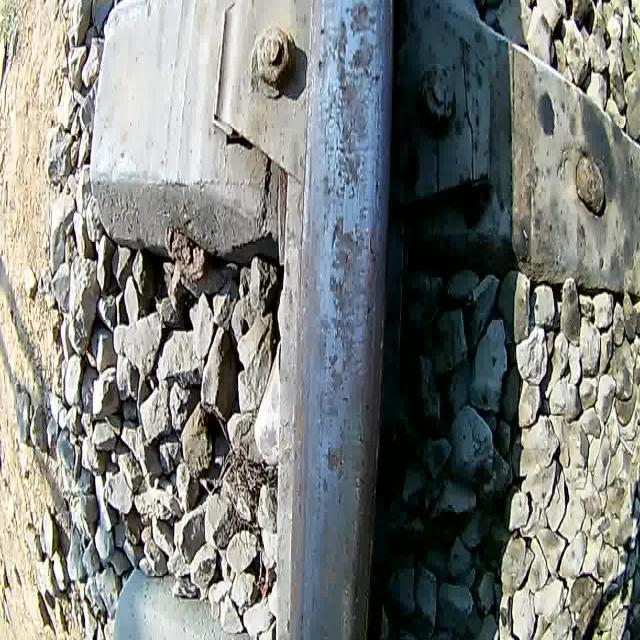Cracks: (371, 82, 385, 226), (360, 294, 380, 334), (365, 229, 382, 269), (328, 217, 343, 256)
Squats: (317, 0, 382, 209), (327, 212, 364, 398), (318, 436, 349, 501)
